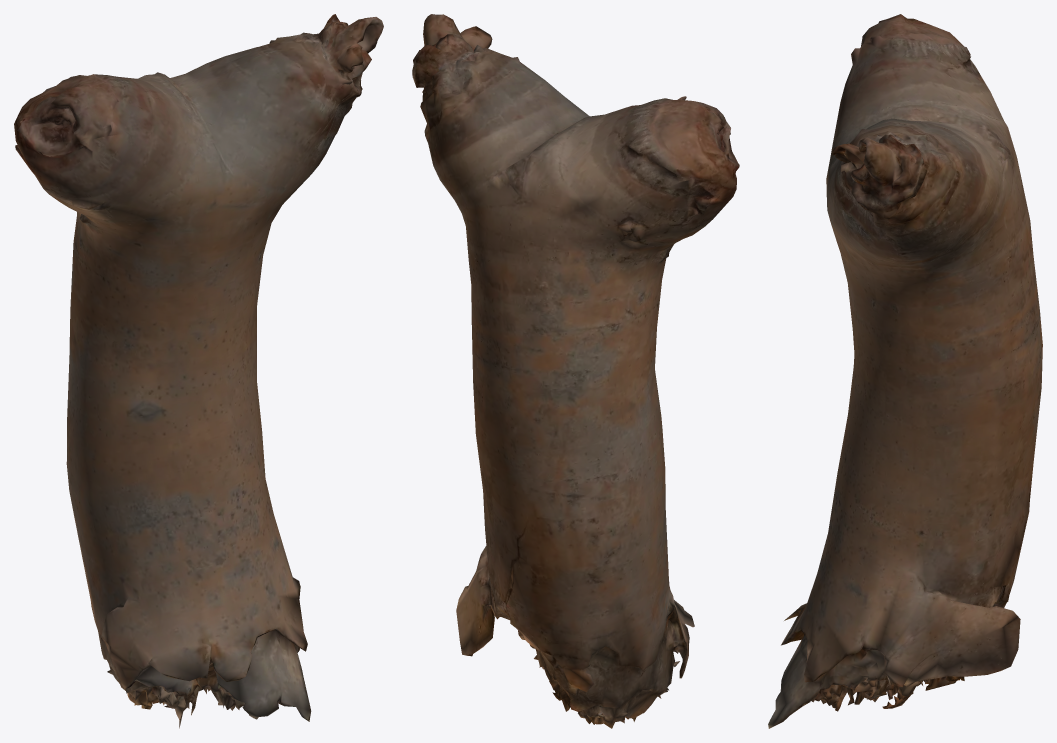
The model's file is ph_dead_quiver_branch_02.glb.
3 views of the same model, side by side, from view 1: azimuth 30°, elevation 25°; view 2: azimuth 150°, elevation 25°; view 3: azimuth 270°, elevation 25° (orthographic).
Parts seen in each view (by area): view 1: dead_quiver_branch_02; view 2: dead_quiver_branch_02; view 3: dead_quiver_branch_02.
Part boxes in pixels (x1,y1,x2,y2): dead_quiver_branch_02: (14, 14, 383, 728); dead_quiver_branch_02: (412, 14, 739, 728); dead_quiver_branch_02: (768, 14, 1042, 728).
Size of the model in its own units: 0.2873 by 0.5264 by 0.2007.
Materials: 1 (1 with a texture image).
